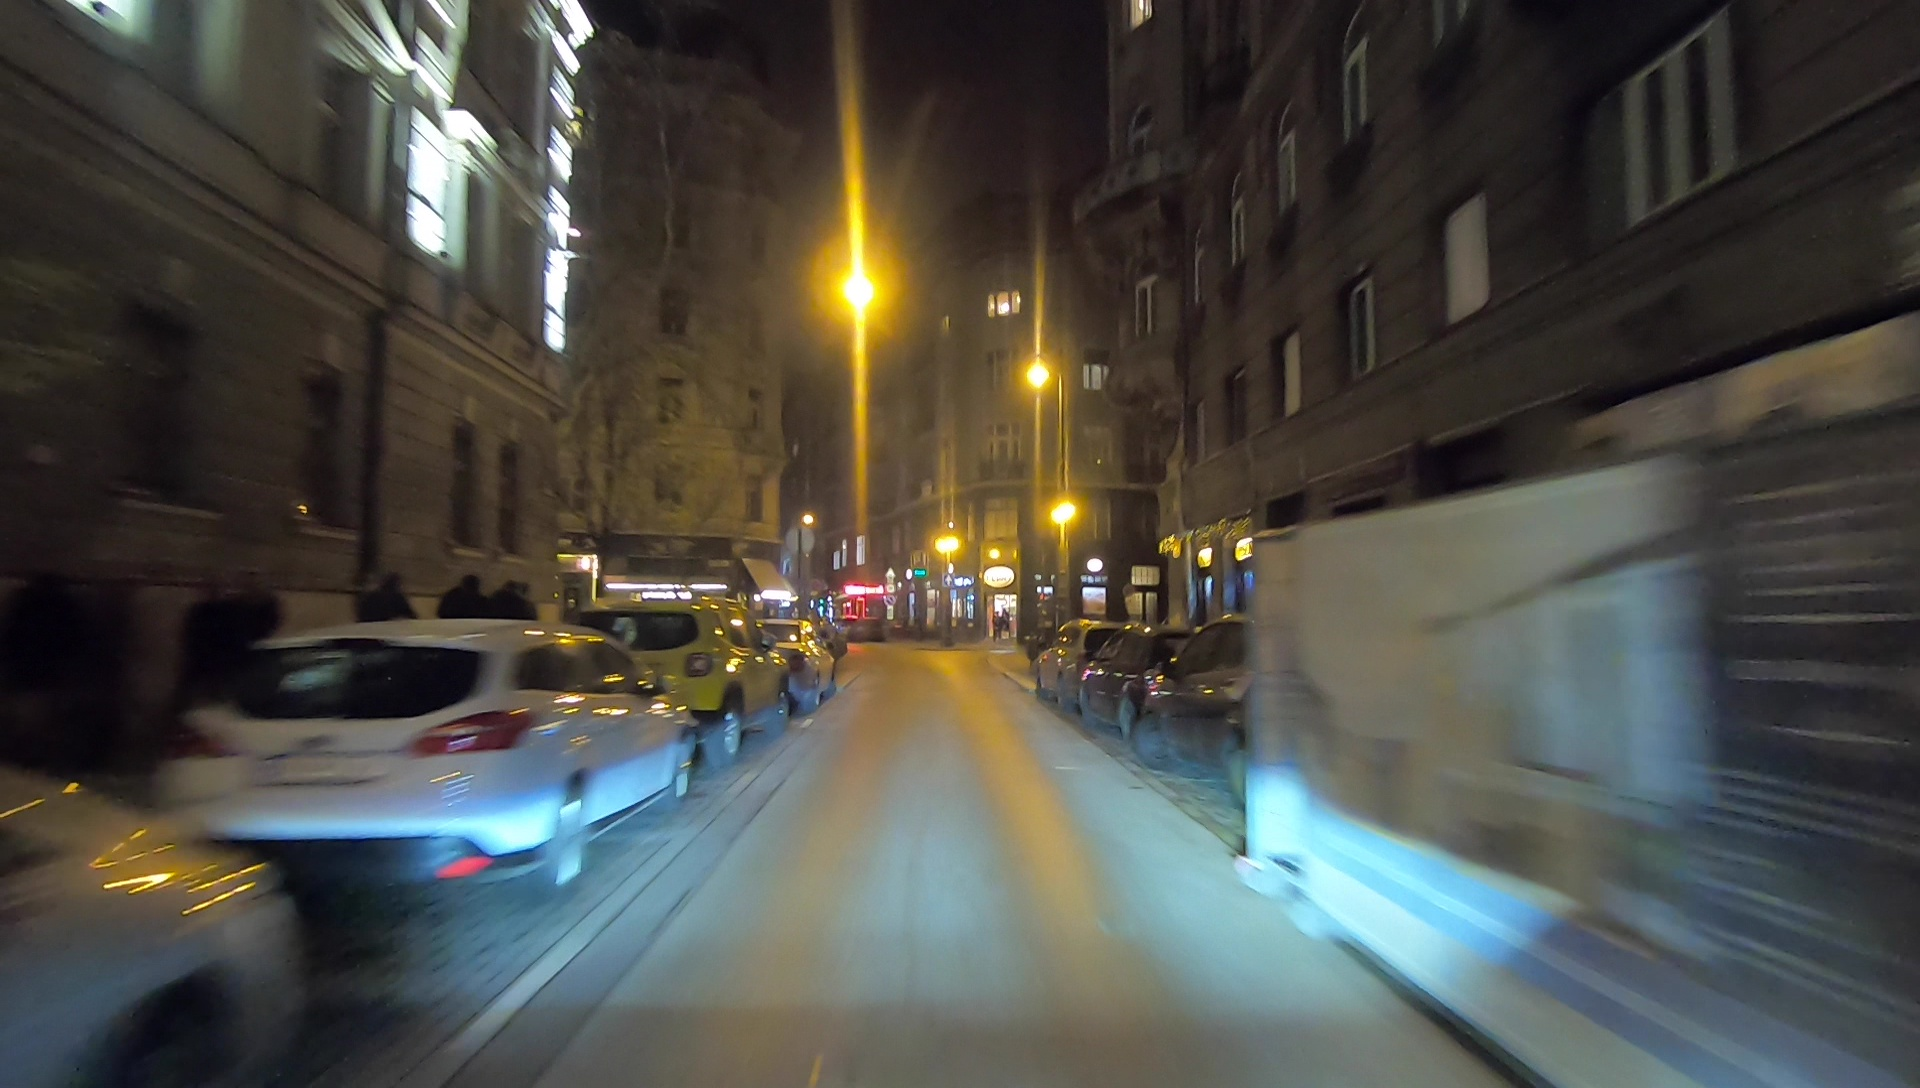person: (358, 569, 415, 702), (441, 569, 486, 719), (186, 578, 226, 741), (234, 576, 273, 723), (491, 569, 536, 687)
